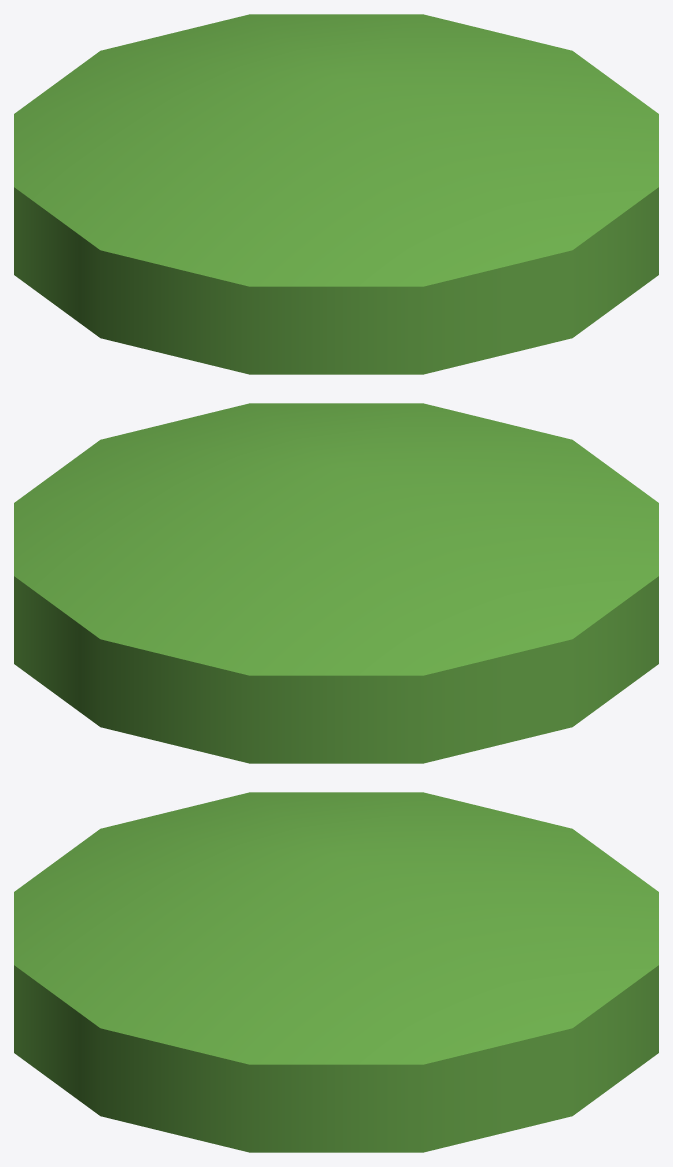
Rendered from met decor 01.FBX.
3 views of the same model, one above another, from view 1: azimuth 30°, elevation 25°; view 2: azimuth 150°, elevation 25°; view 3: azimuth 270°, elevation 25° (orthographic).
Parts seen in each view (by area): view 1: Cylinder104; view 2: Cylinder104; view 3: Cylinder104.
Boxes of the visible parts, bbox=[...] form: Cylinder104: bbox=[14, 14, 658, 374]; Cylinder104: bbox=[14, 403, 658, 763]; Cylinder104: bbox=[14, 792, 658, 1152].
Bounding box in the file's own units: 0.332 × 0.0907 × 0.332.
